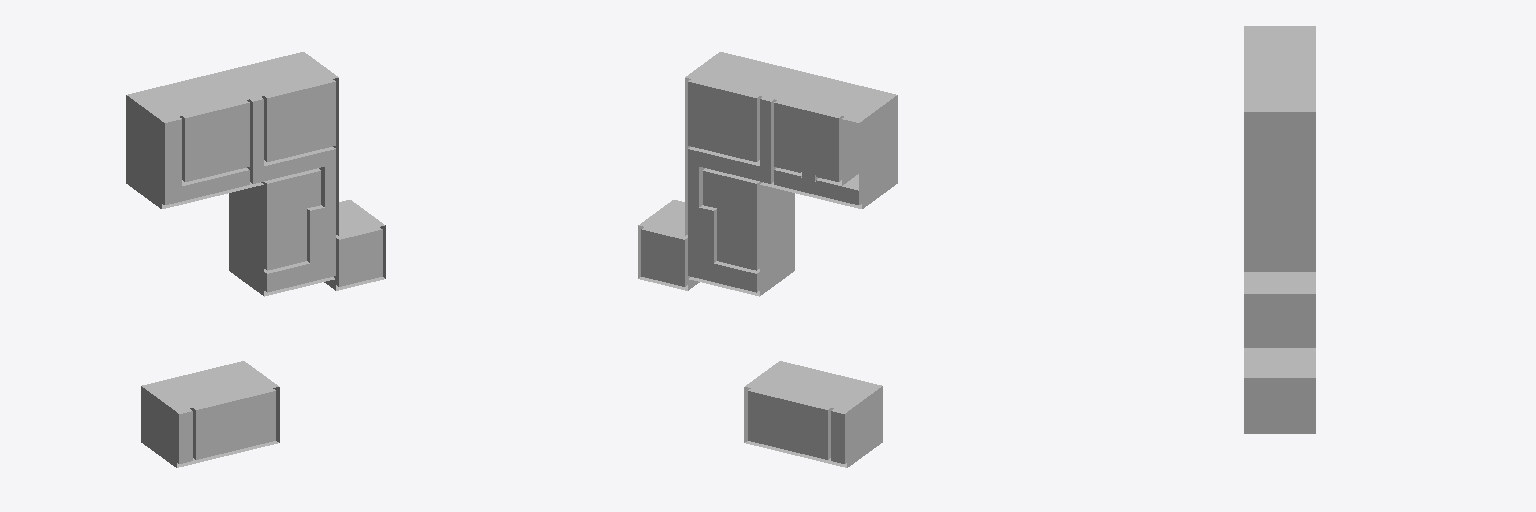
Rendered from f_Floor3.obj.
3 views of the same model, side by side, from view 1: azimuth 30°, elevation 25°; view 2: azimuth 150°, elevation 25°; view 3: azimuth 270°, elevation 25° (orthographic).
Parts seen in each view (by area): view 1: 3rdFloor_(1).001; view 2: 3rdFloor_(1).001; view 3: 3rdFloor_(1).001.
Boxes of the visible parts, box(x1,y1,x2,y2) form: 3rdFloor_(1).001: box(126, 52, 385, 467); 3rdFloor_(1).001: box(638, 52, 897, 467); 3rdFloor_(1).001: box(1244, 26, 1315, 433).
Bounding box in the file's own units: 146 × 218 × 40.